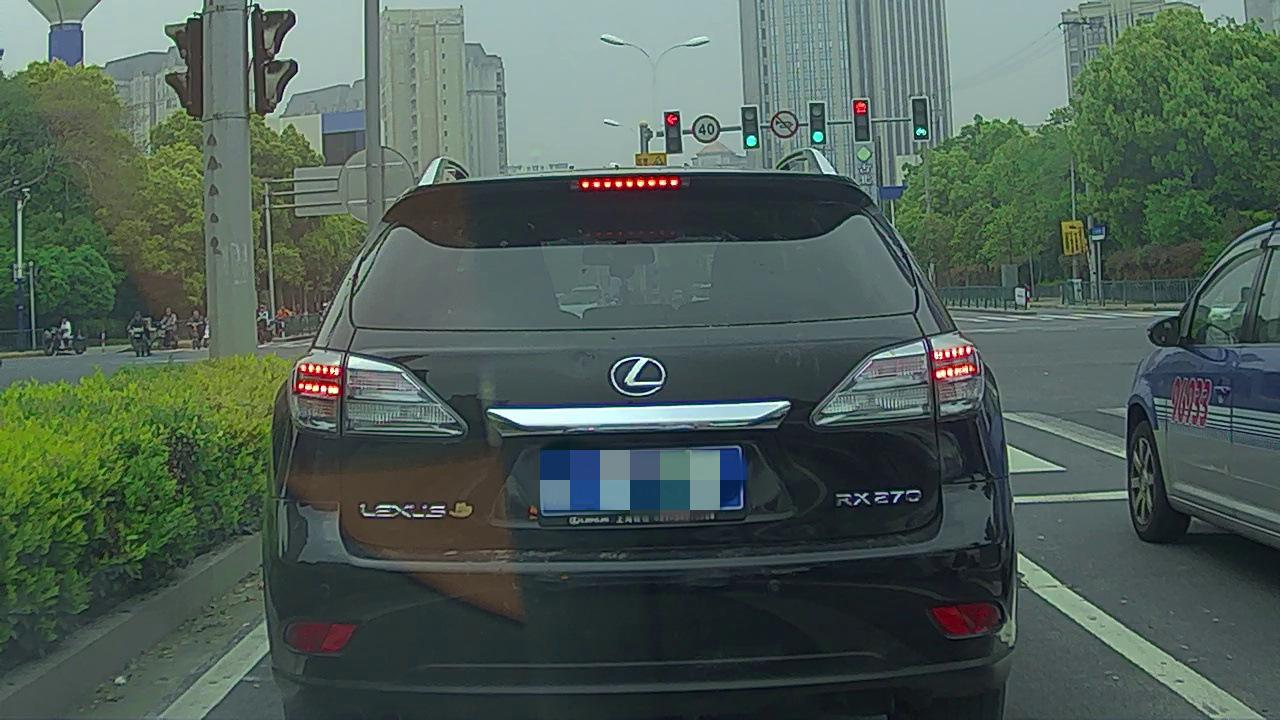traffic_light: (911, 98, 929, 142), (742, 108, 759, 150), (854, 98, 870, 141), (666, 111, 681, 153), (811, 102, 825, 144)
